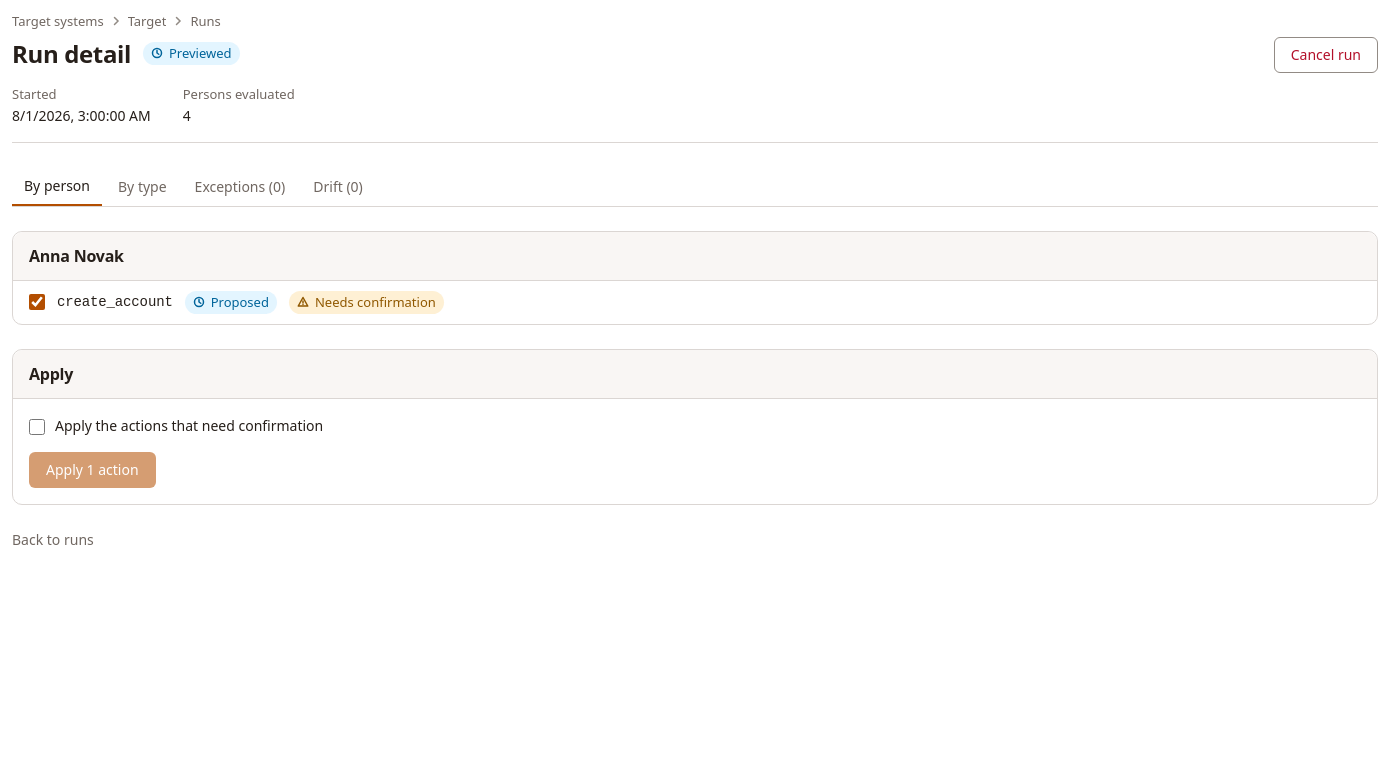
Scenario: ProvisionRunDetailPage › will not apply an action needing confirmation without one
The image size is (1390, 780).
Expected: the text "Needs confirmation" is shown, [289,291,444,314]
Expected: the button "Apply 1 action" is disabled, [29,452,156,488]
Click the checkbox labelled "Apply the actions that need confirmation" at (37, 427), box [29,419,45,435]
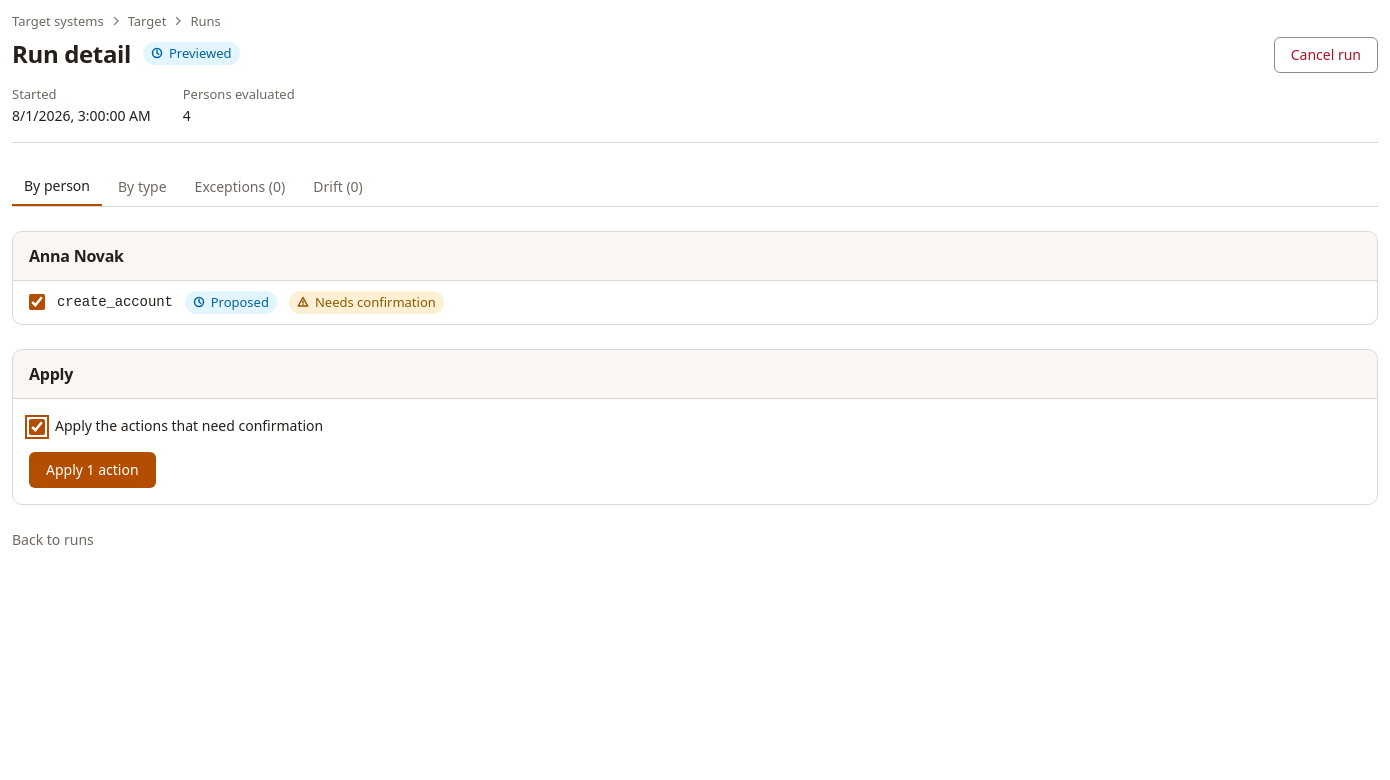
Now the button "Apply 1 action" is enabled, box [29,452,156,488]
